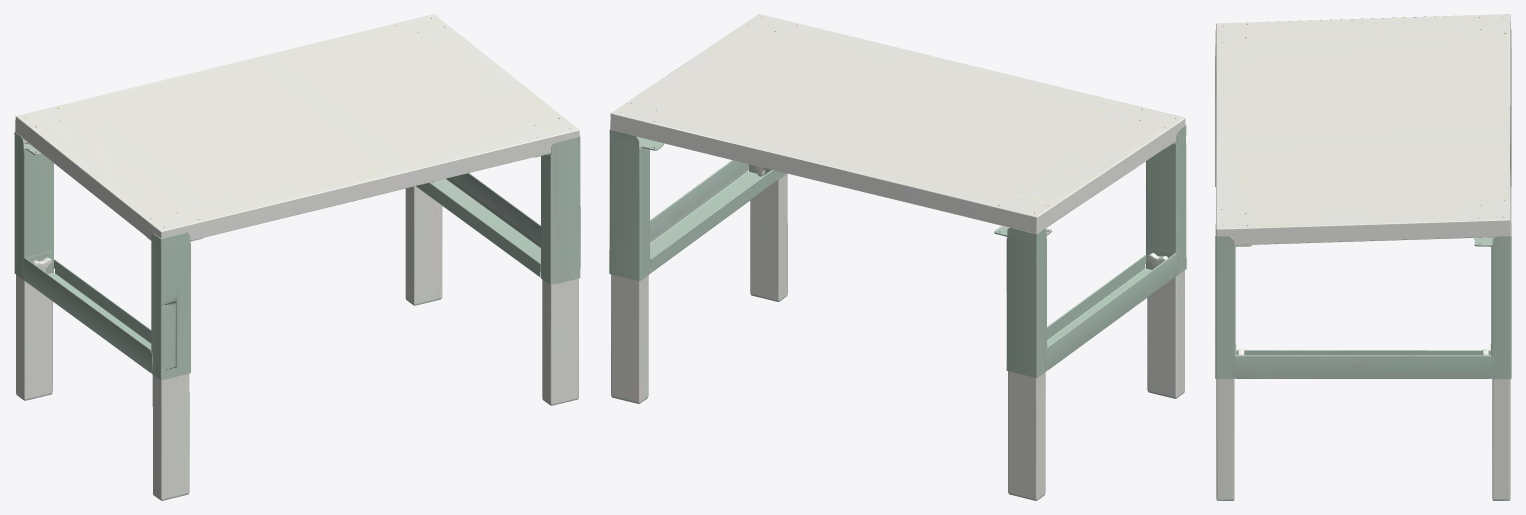
Rendered from pahl_biurko_69617444.glb.
The picture shows the model from 3 angles, left to right: view 1: azimuth 30°, elevation 25°; view 2: azimuth 150°, elevation 25°; view 3: azimuth 270°, elevation 25°; orthographic projection.
Parts seen in each view (by area): view 1: pahl_biurko_69617444; view 2: pahl_biurko_69617444; view 3: pahl_biurko_69617444.
Part boxes in pixels (box(x1,y1,x2,y2)): pahl_biurko_69617444: box(14, 14, 580, 500); pahl_biurko_69617444: box(609, 14, 1186, 500); pahl_biurko_69617444: box(1215, 14, 1511, 500).
Size of the model in its own units: 0.9645 by 0.6112 by 0.5831.
Materials: 3 (3 with a texture image).
